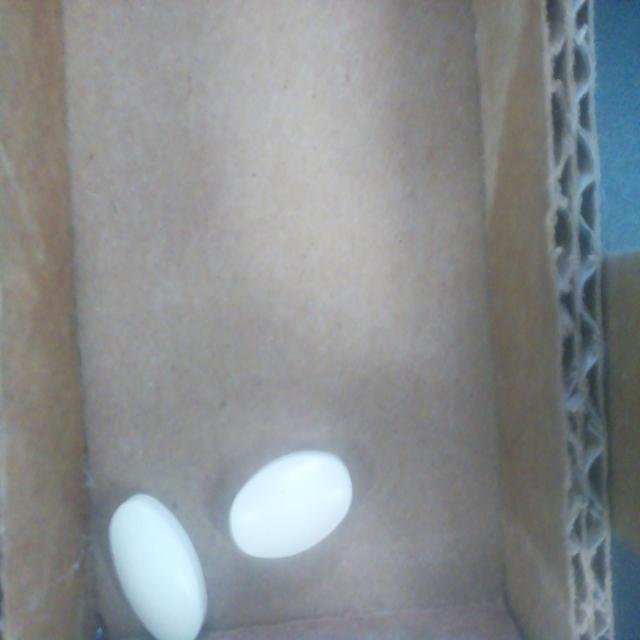pill: (107, 494, 208, 640), (228, 451, 353, 559)
